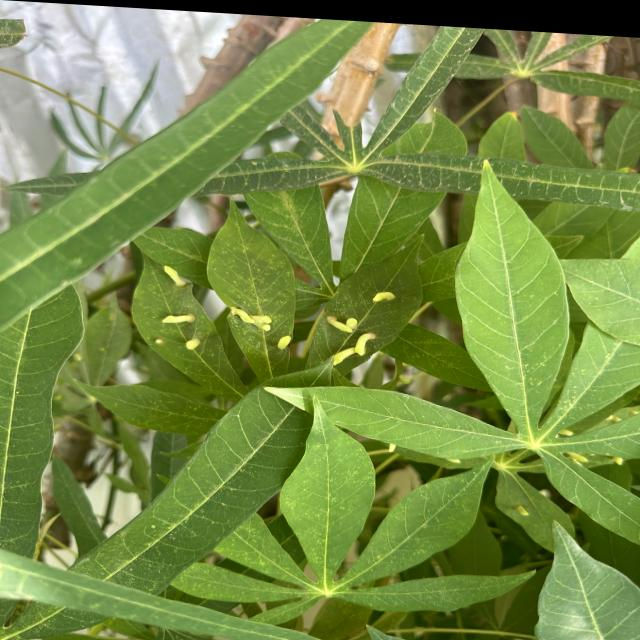Mosca: (155, 303, 205, 361), (320, 334, 392, 367), (227, 294, 283, 336), (150, 252, 190, 292), (320, 305, 361, 336), (365, 280, 404, 311), (433, 447, 472, 474), (260, 332, 300, 358), (560, 439, 592, 471), (381, 429, 402, 457), (552, 425, 579, 444), (596, 406, 623, 425), (511, 502, 533, 524), (609, 450, 631, 470)
